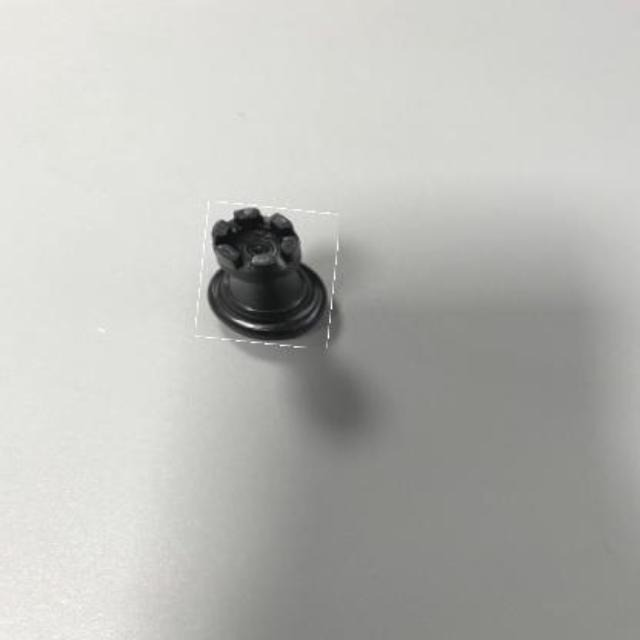black-rook: (199, 204, 337, 345)
